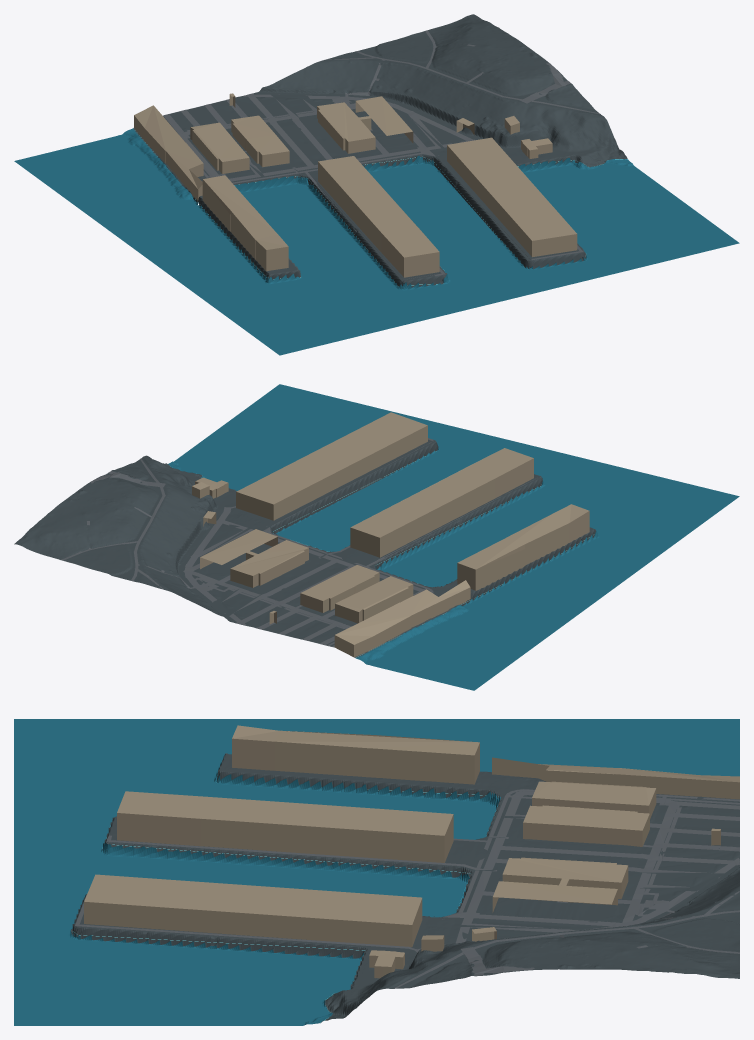
File: epsg26910-1432-10897.lod0.glb
The picture shows the model from 3 angles, top to bottom: view 1: azimuth 30°, elevation 25°; view 2: azimuth 150°, elevation 25°; view 3: azimuth 270°, elevation 25°; orthographic projection. The views are drawn at different scales.
Parts seen in each view (by area): view 1: epsg26910-1432-10897-lod0; view 2: epsg26910-1432-10897-lod0; view 3: epsg26910-1432-10897-lod0.
Part boxes in pixels (bbox=[...]): epsg26910-1432-10897-lod0: bbox=[14, 14, 739, 355]; epsg26910-1432-10897-lod0: bbox=[14, 384, 739, 690]; epsg26910-1432-10897-lod0: bbox=[14, 719, 739, 1025].
Size of the model in its own units: 384 by 33.65 by 384.
